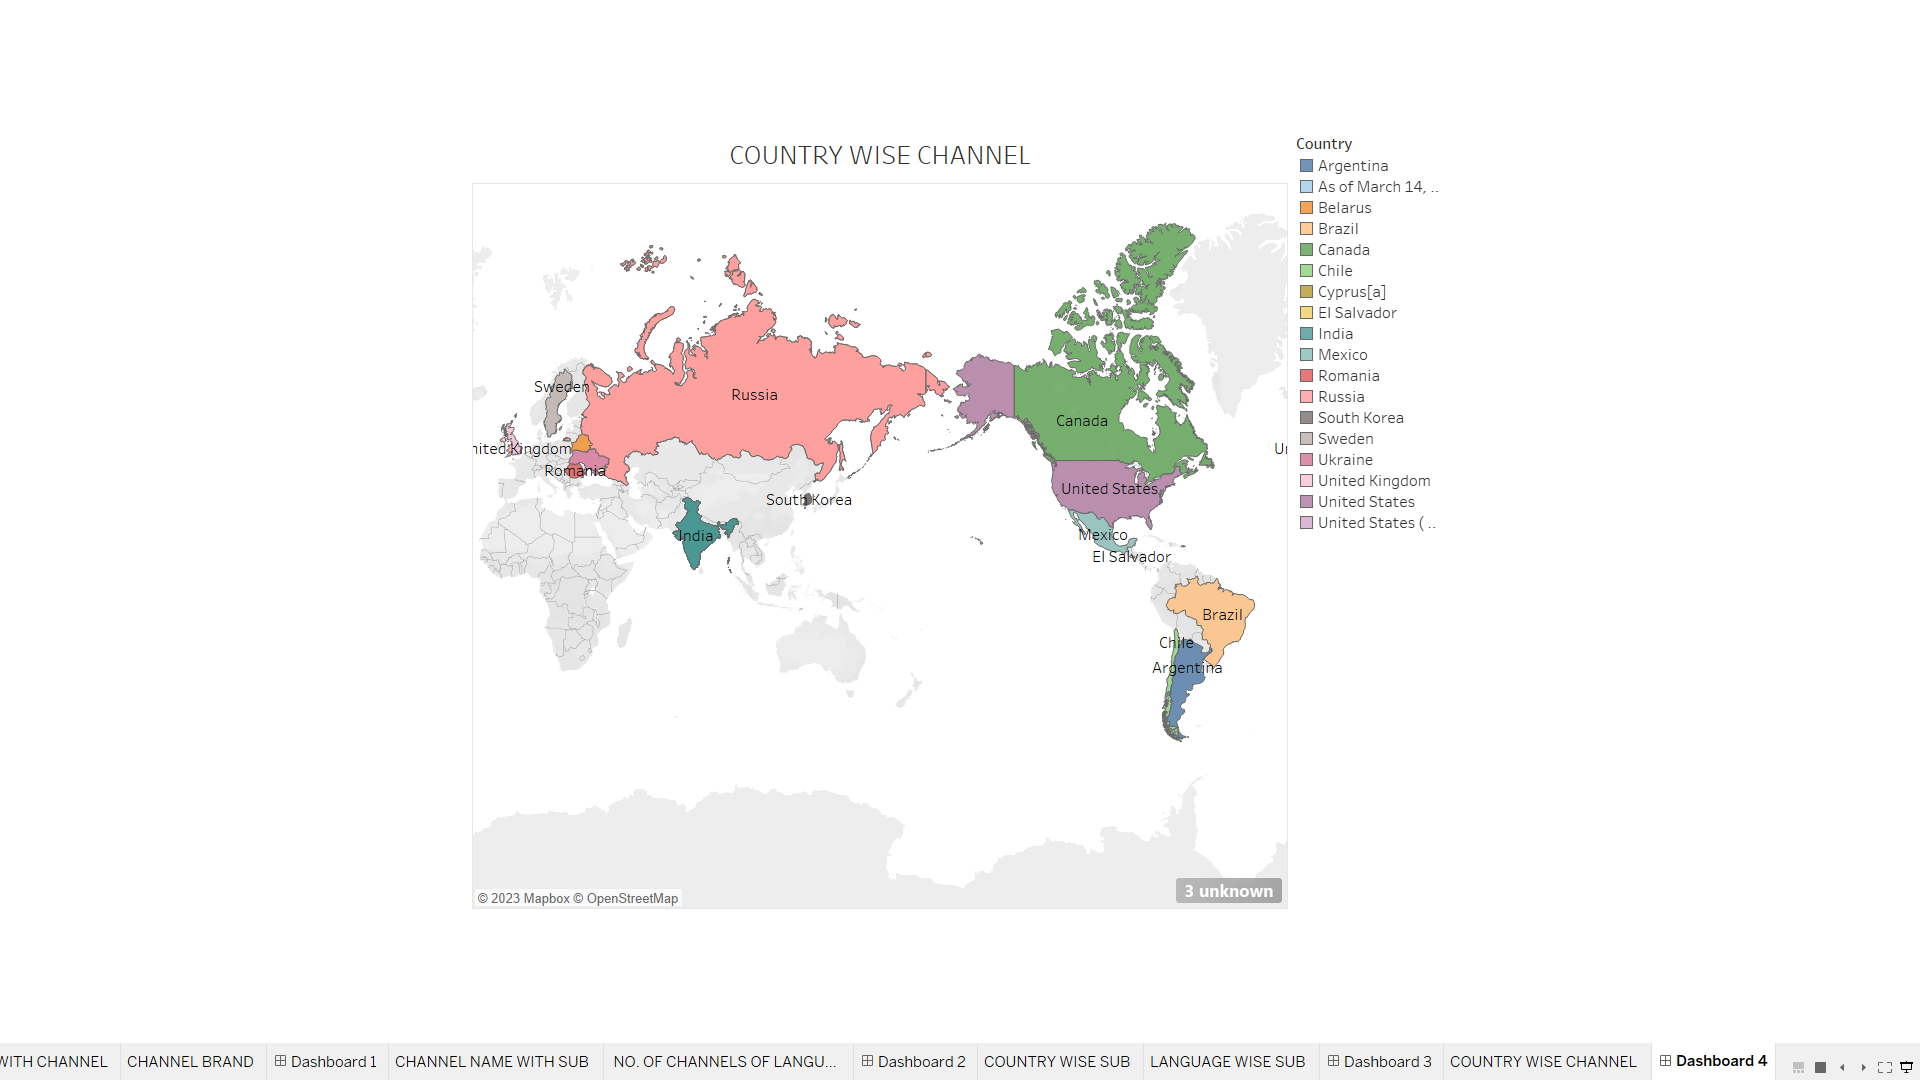

What the dashboard file says about the page in this screenshot:
{"tool":"tableau","page":{"name":"Dashboard 4","canvas":[1000,800],"ordinal":3},"visuals":[{"type":"worksheet","title":"COUNTRY WISE CHANNEL","mark":"Multipolygon","box":[8,8,824,784]},{"type":"legend","title":"COUNTRY WISE CHANNEL","param":"[federated.1kwdbhw1eljqcs1cayi8c0mah2rt].[none:Country:nk]","box":[832,8,160,408]}]}

Visuals, with their boxes on the page's 1000x800 design canvas (x1, y1, x2, y2). These are canvas units, not pixel positions in the 1920x1080 screenshot, which may show the page scaled, cropped or inside an application window:
"COUNTRY WISE CHANNEL" worksheet (Multipolygon marks): 8, 8, 832, 792
"COUNTRY WISE CHANNEL" legend: 832, 8, 992, 416
